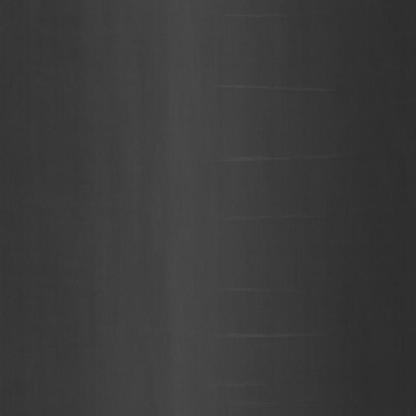waist_folding: (186, 20, 342, 368)
